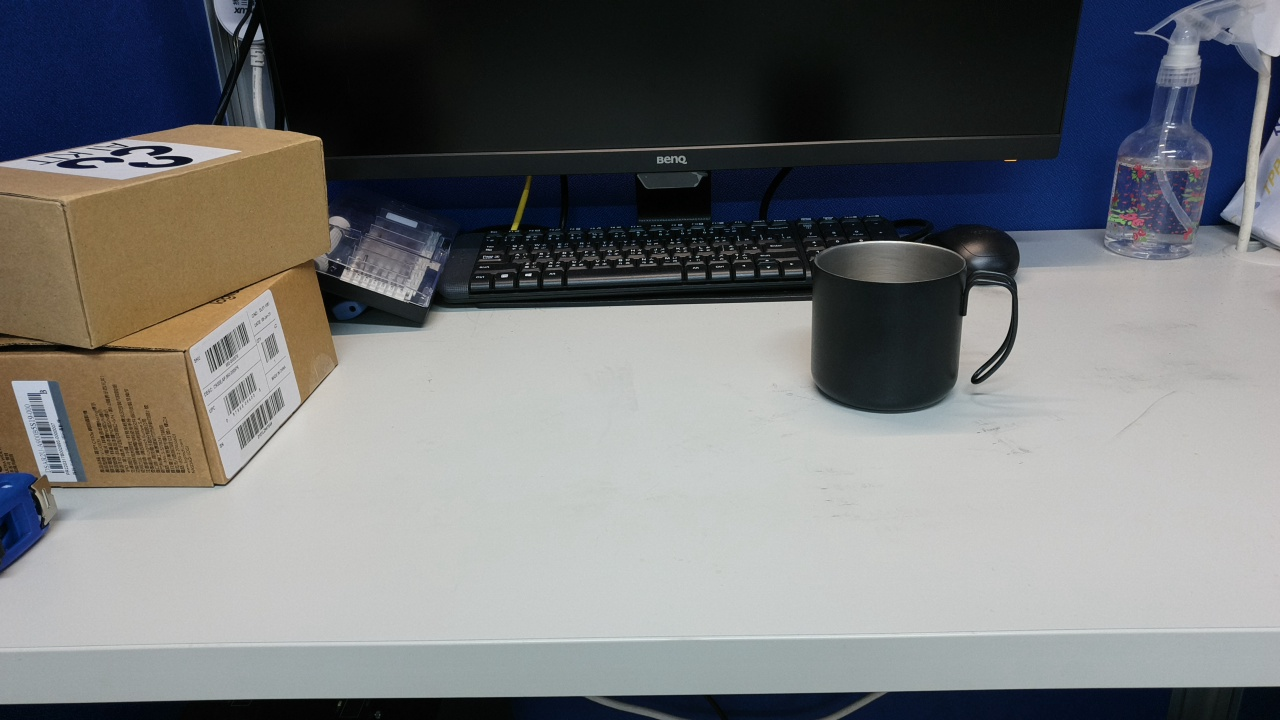circle: (599, 539, 787, 694)
